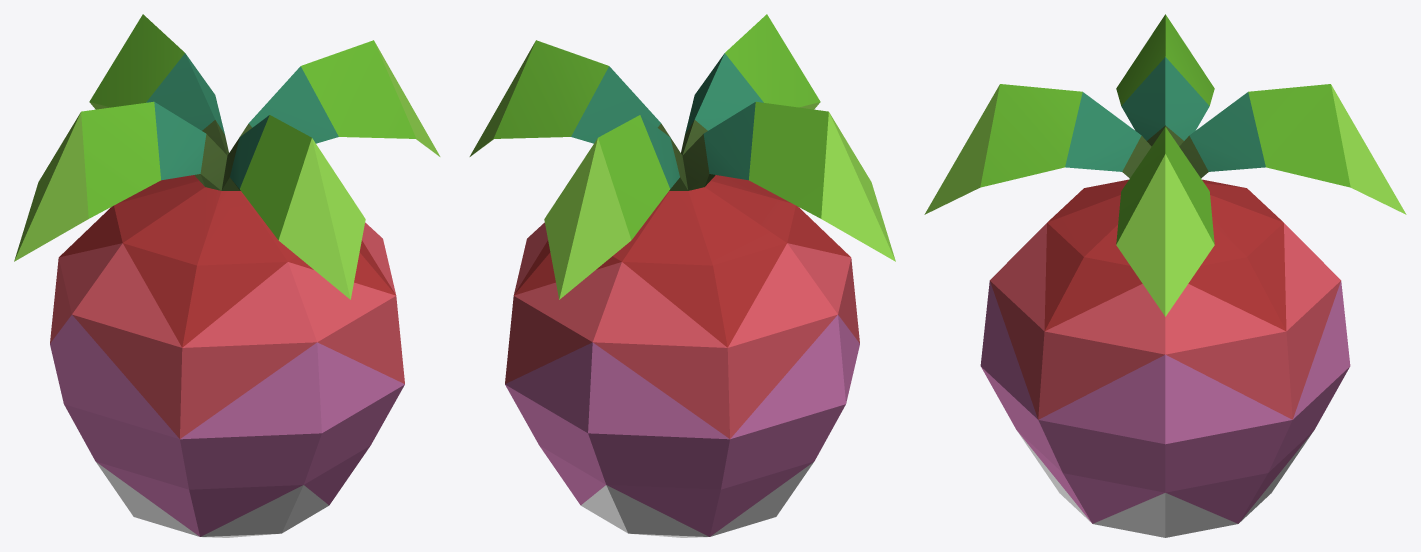
Rendered from model_radish.fbx.
3 views of the same model, side by side, from view 1: azimuth 30°, elevation 25°; view 2: azimuth 150°, elevation 25°; view 3: azimuth 270°, elevation 25° (orthographic). The views are drawn at different scales.
Visible parts, largest first — view 1: mesh_radish; view 2: mesh_radish; view 3: mesh_radish.
Boxes of the visible parts, x1,y1,x2,y2 form: mesh_radish: (14, 14, 440, 537); mesh_radish: (469, 14, 895, 537); mesh_radish: (924, 14, 1406, 537).
Size of the model in its own units: 1.56 by 1.61 by 1.56.
1 material, 1 textured.
